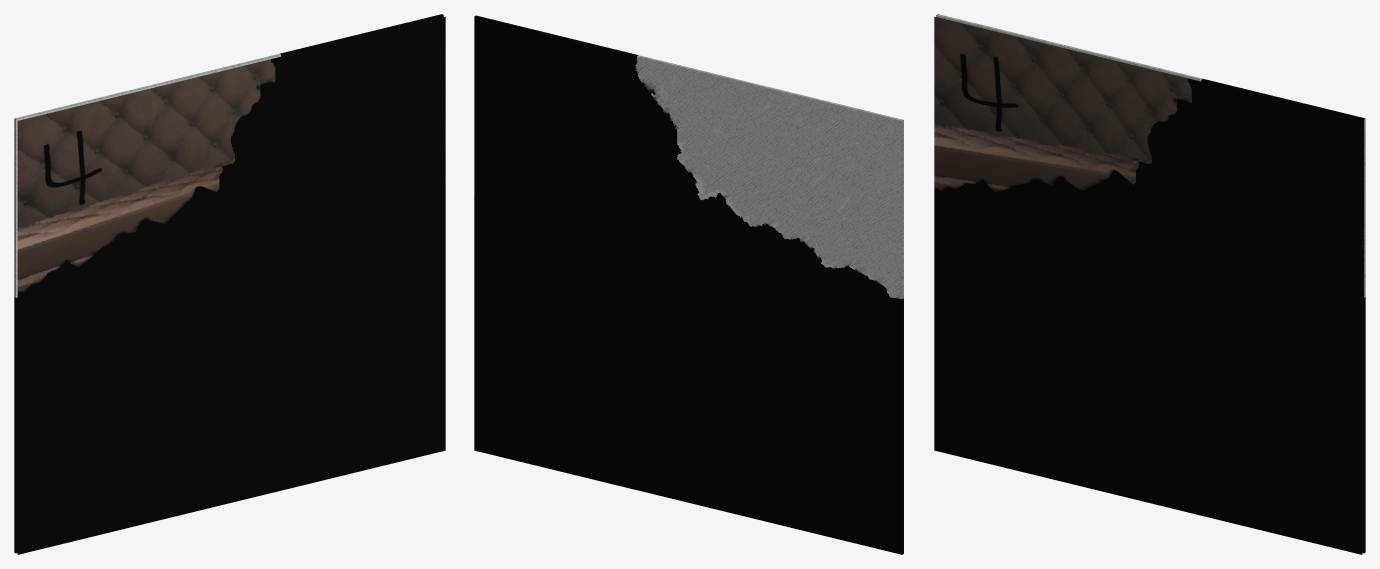
Rendered from PicturePiece.fbx.
3 renders of one model, left to right at view 1: azimuth 30°, elevation 25°; view 2: azimuth 150°, elevation 25°; view 3: azimuth 330°, elevation 25°, orthographic.
Parts seen in each view (by area): view 1: polySurface3; view 2: polySurface3; view 3: polySurface3.
Boxes of the visible parts, x1,y1,x2,y2 form: polySurface3: [14, 14, 445, 554]; polySurface3: [474, 15, 903, 554]; polySurface3: [934, 14, 1365, 554].
Bounding box in the file's own units: 56.06 × 54.31 × 0.7884.
2 materials, 2 textured.
